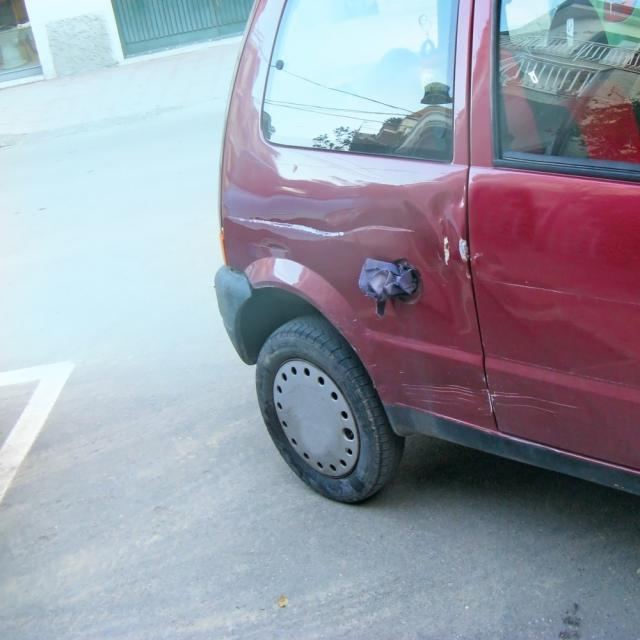Cabossage: (414, 188, 470, 319)
Rayure: (403, 368, 583, 432), (233, 208, 431, 254), (482, 266, 640, 316)
